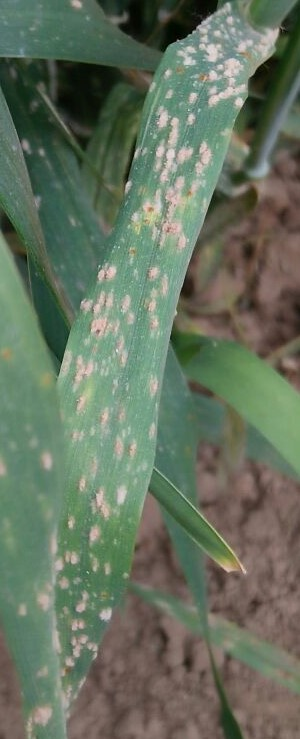Powdery Mildew: (64, 20, 273, 570)
